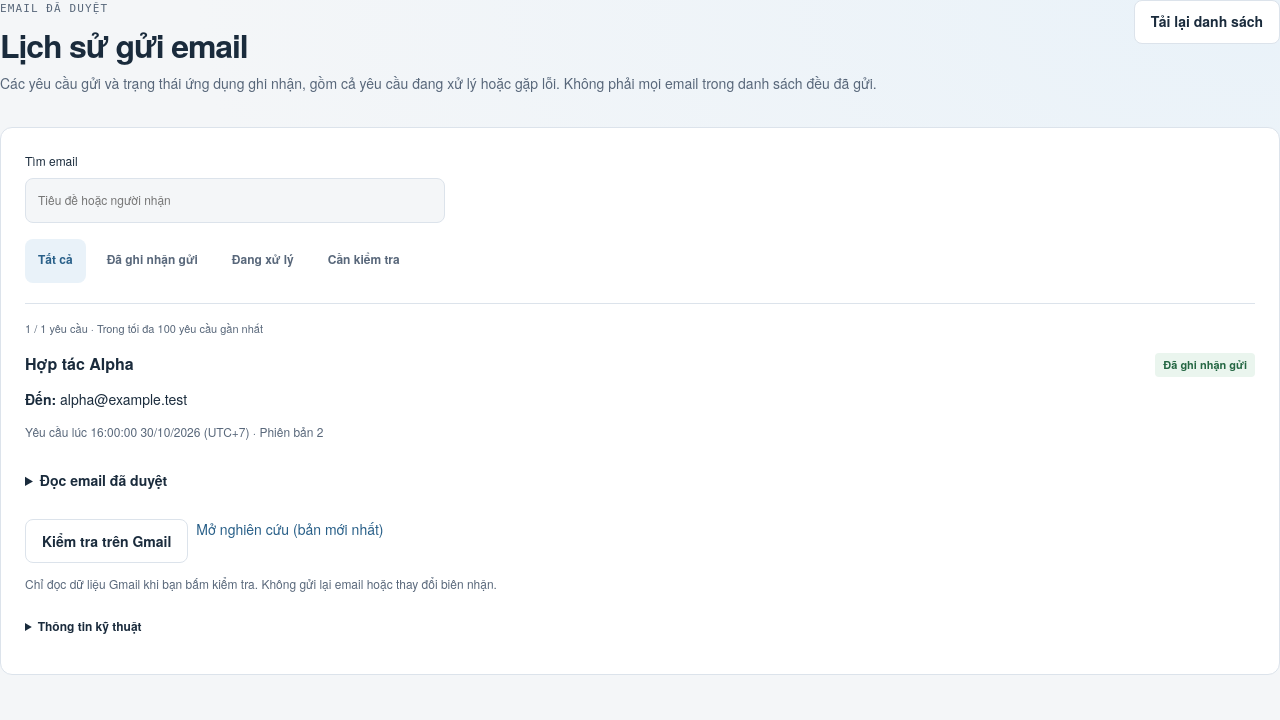
sent history › explains not_found without changing application status
Click the button "Kiểm tra trên Gmail".
click(107, 541)  # box [25, 519, 188, 563]
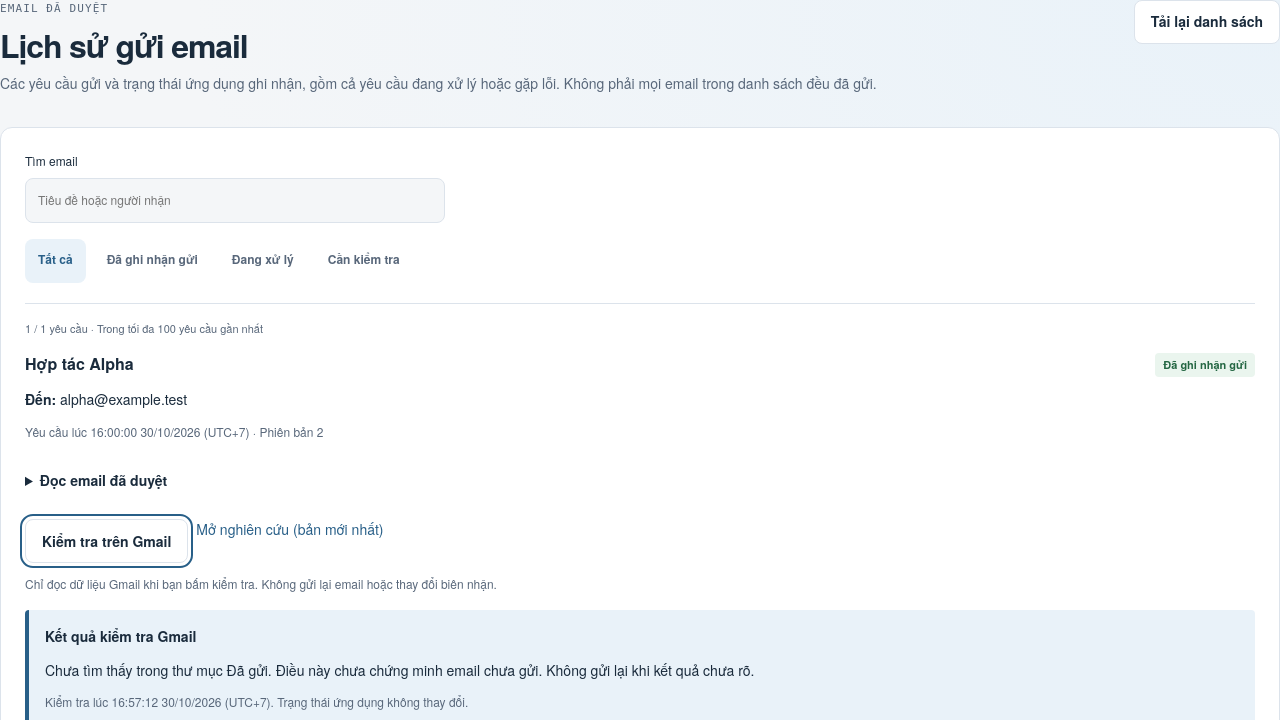
Expected: the text "Đã ghi nhận gửi" is shown, [1155, 353, 1255, 377]
Expected: the text "Điều này chưa chứng minh email chưa gửi" is shown, [45, 660, 754, 680]
